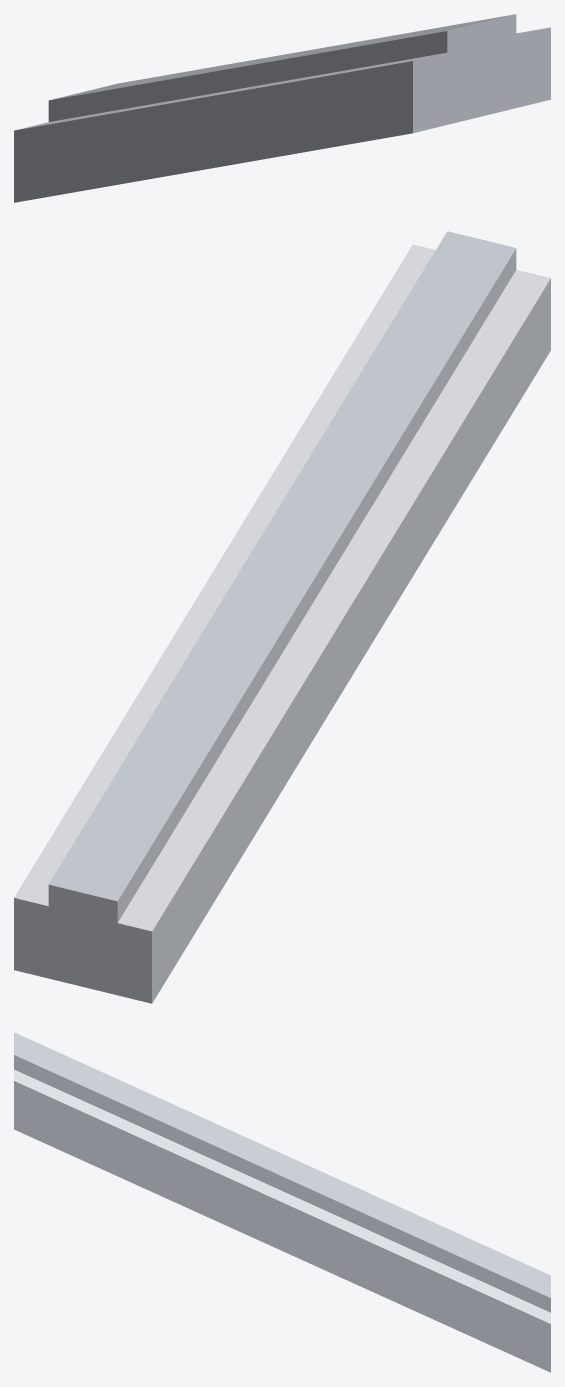
The model's file is monorail_trackSlope.glb.
The picture shows the model from 3 angles, top to bottom: view 1: azimuth 30°, elevation 25°; view 2: azimuth 150°, elevation 25°; view 3: azimuth 270°, elevation 25°; orthographic projection. The views are drawn at different scales.
Parts seen in each view (by area): view 1: monorail_trackSlope; view 2: monorail_trackSlope; view 3: monorail_trackSlope.
Boxes of the visible parts, x1,y1,x2,y2 form: monorail_trackSlope: (14, 14, 550, 202); monorail_trackSlope: (14, 231, 550, 1003); monorail_trackSlope: (14, 1032, 550, 1372).
Size of the model in its own units: 0.2 by 0.63 by 1.
1 material, 1 textured.
